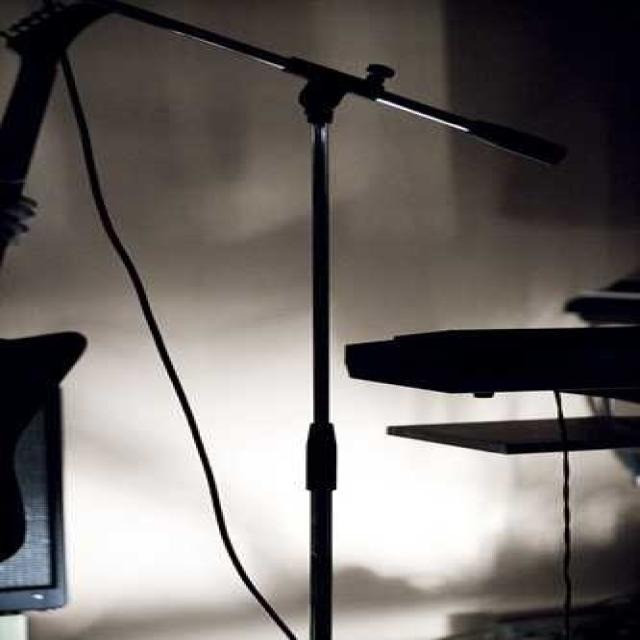microphone: (349, 76, 568, 166)
